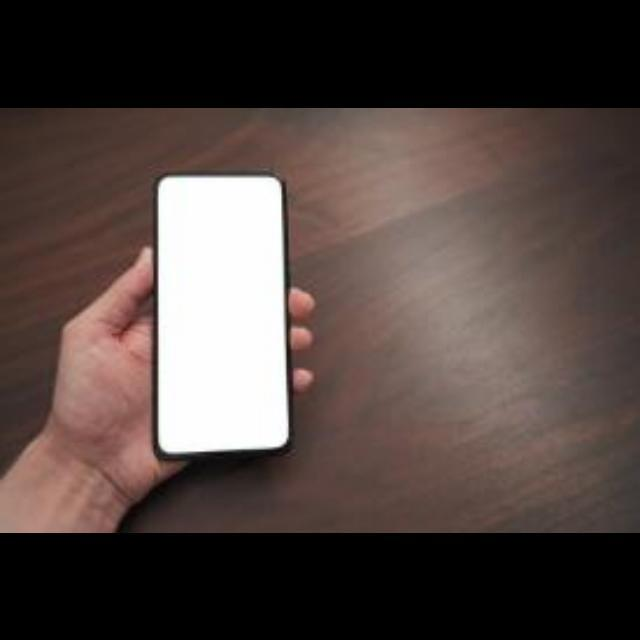Phone: (147, 162, 295, 466)
